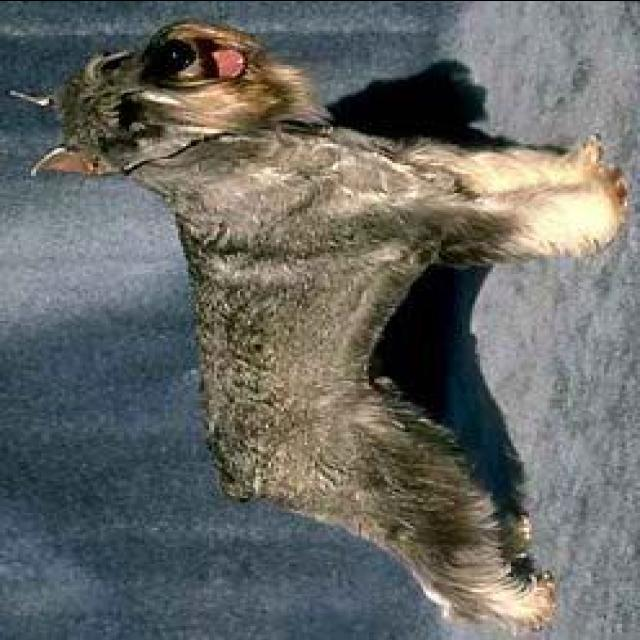standard_schnauzer: (16, 15, 624, 629)
